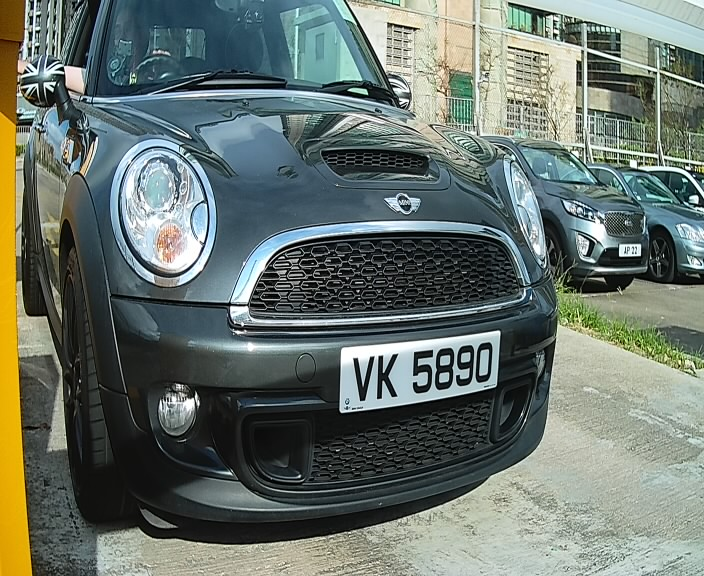Car: (2, 2, 575, 546)
License Plate: (333, 322, 509, 426)
